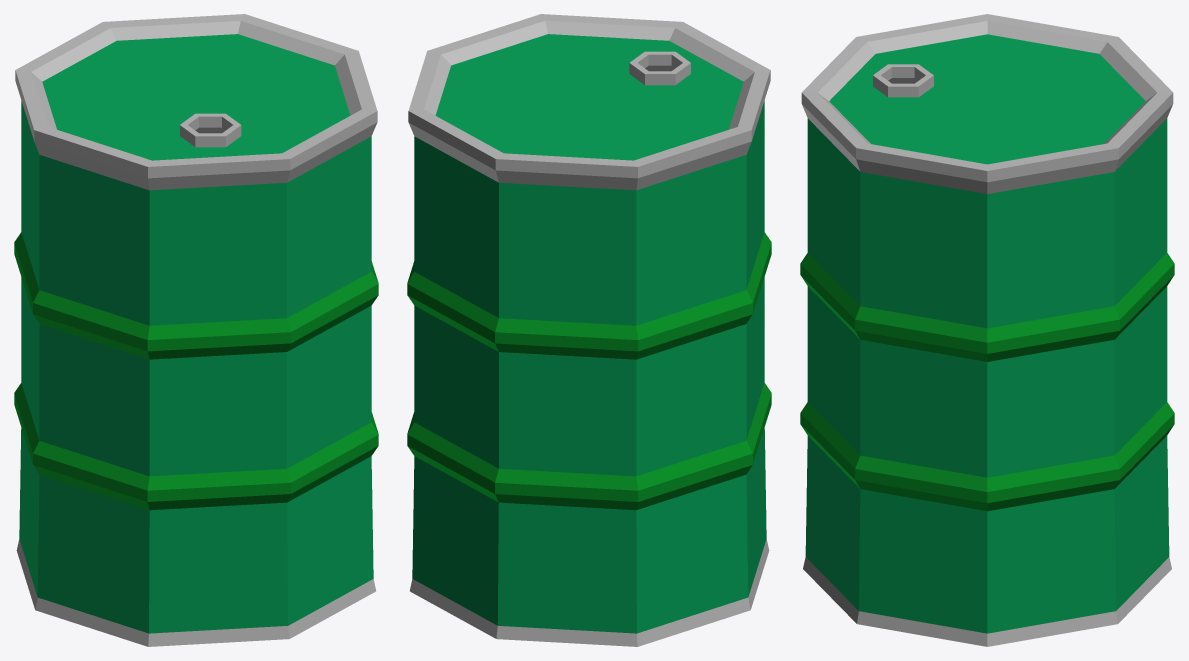
The model's file is Barrel Metal Green.fbx.
The picture shows the model from 3 angles, left to right: view 1: azimuth 30°, elevation 25°; view 2: azimuth 150°, elevation 25°; view 3: azimuth 270°, elevation 25°; orthographic projection.
Parts seen in each view (by area): view 1: Barrel Metal Green; view 2: Barrel Metal Green; view 3: Barrel Metal Green.
Boxes of the visible parts, x1,y1,x2,y2 form: Barrel Metal Green: [14, 14, 378, 646]; Barrel Metal Green: [407, 14, 771, 646]; Barrel Metal Green: [800, 14, 1174, 646].
Size of the model in its own units: 82 by 116 by 82.
